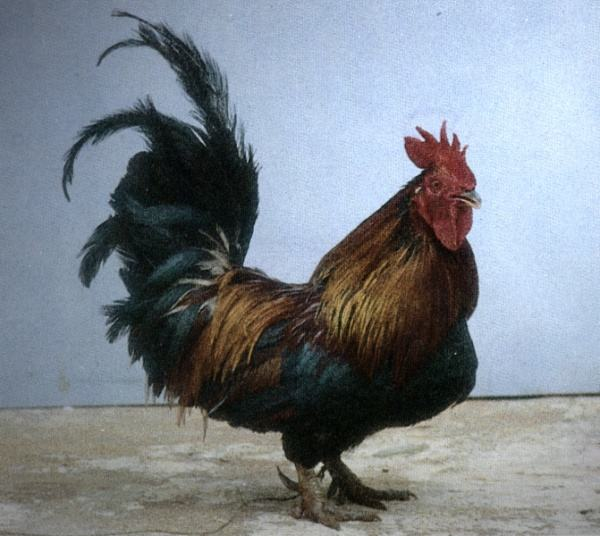chicken: (67, 6, 491, 532)
